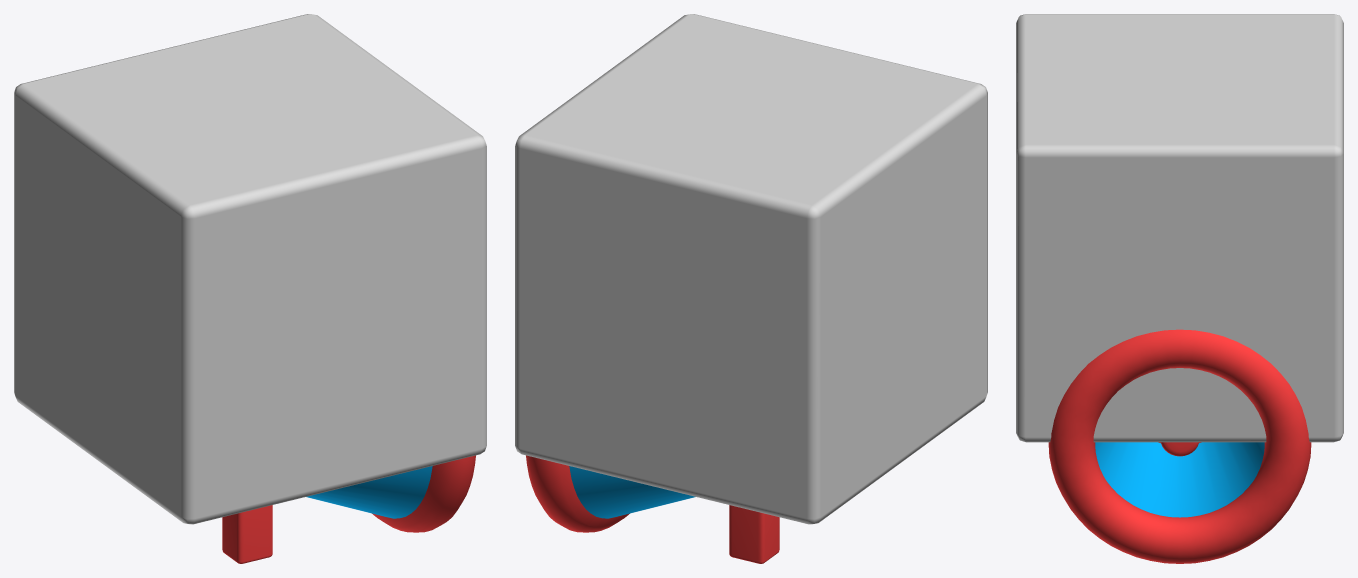
File: social-media-content-speaker-1678897103700.glb
3 renders of one model, left to right at view 1: azimuth 30°, elevation 25°; view 2: azimuth 150°, elevation 25°; view 3: azimuth 270°, elevation 25°, orthographic. The views are drawn at different scales.
Visible parts, largest first — view 1: Reference Size, Talking base.002, Talking base.006; view 2: Reference Size, Talking base.002, Talking base.006; view 3: Reference Size, Talking base.002.
Part boxes in pixels (x1,y1,x2,y2): Reference Size: [14, 14, 486, 524]; Talking base.002: [306, 455, 475, 532]; Talking base.006: [222, 505, 272, 563]; Reference Size: [515, 14, 987, 524]; Talking base.002: [526, 455, 695, 532]; Talking base.006: [729, 505, 779, 563]; Reference Size: [1016, 14, 1343, 442]; Talking base.002: [1048, 329, 1311, 563].
Size of the model in its own units: 2.49 by 3.36 by 2.39.
